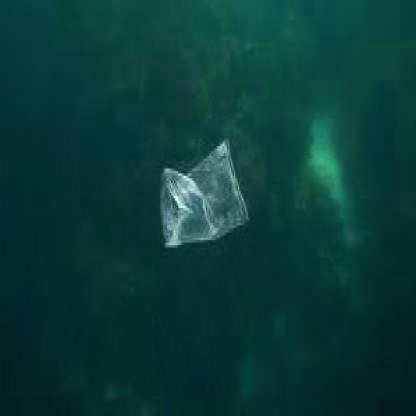pbag: (158, 139, 247, 250)
